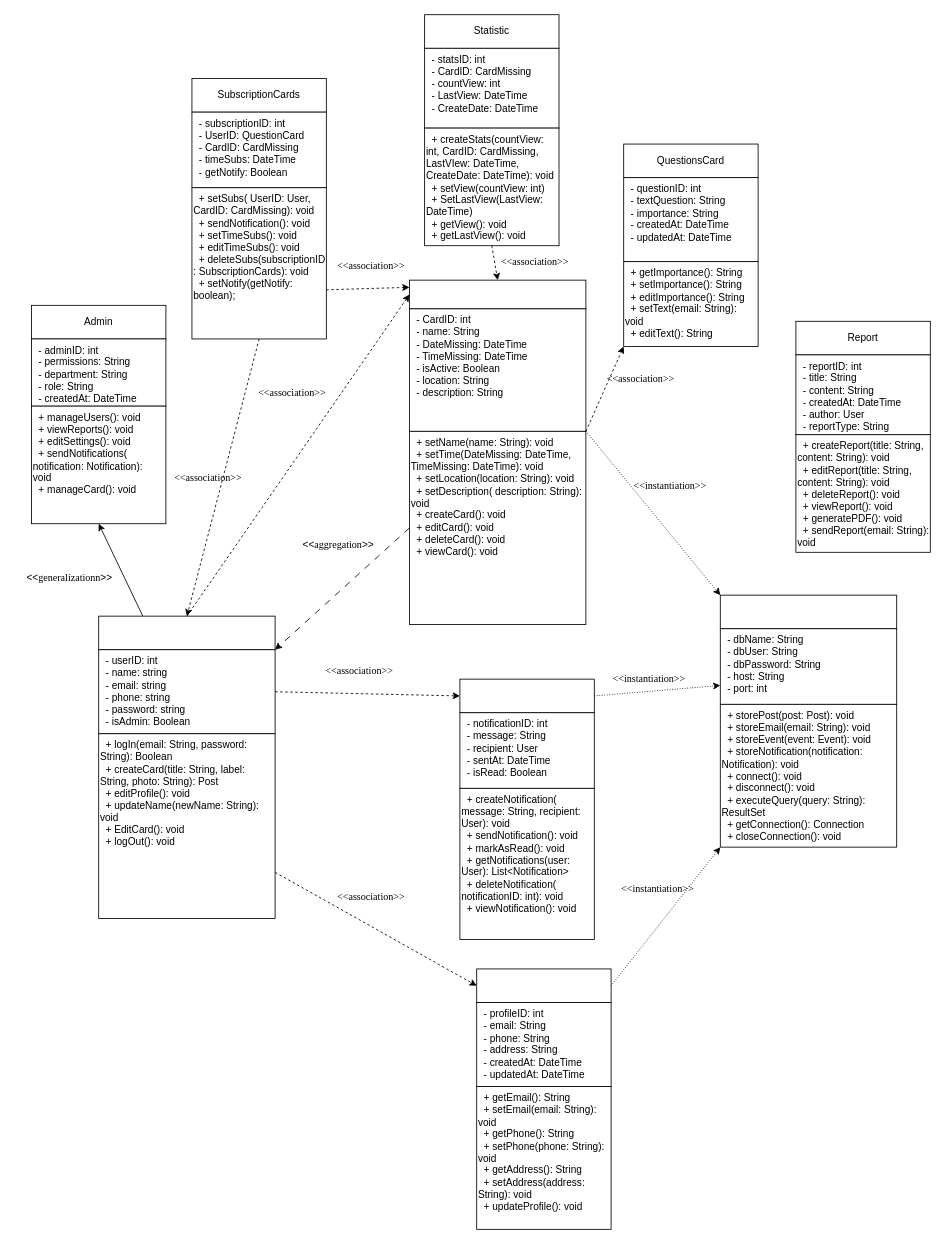
Image size: 945x1252. Some labels were removed from this diagram. The shapes that lost their labels are listed below. From the top down, each one's centre as x and y in pixels, then its label:
At point (497, 294): "CardMissing".
At point (808, 611): "Database".
At point (186, 632): "User".
At point (526, 695): "Notification".
At point (543, 985): "Profile".
